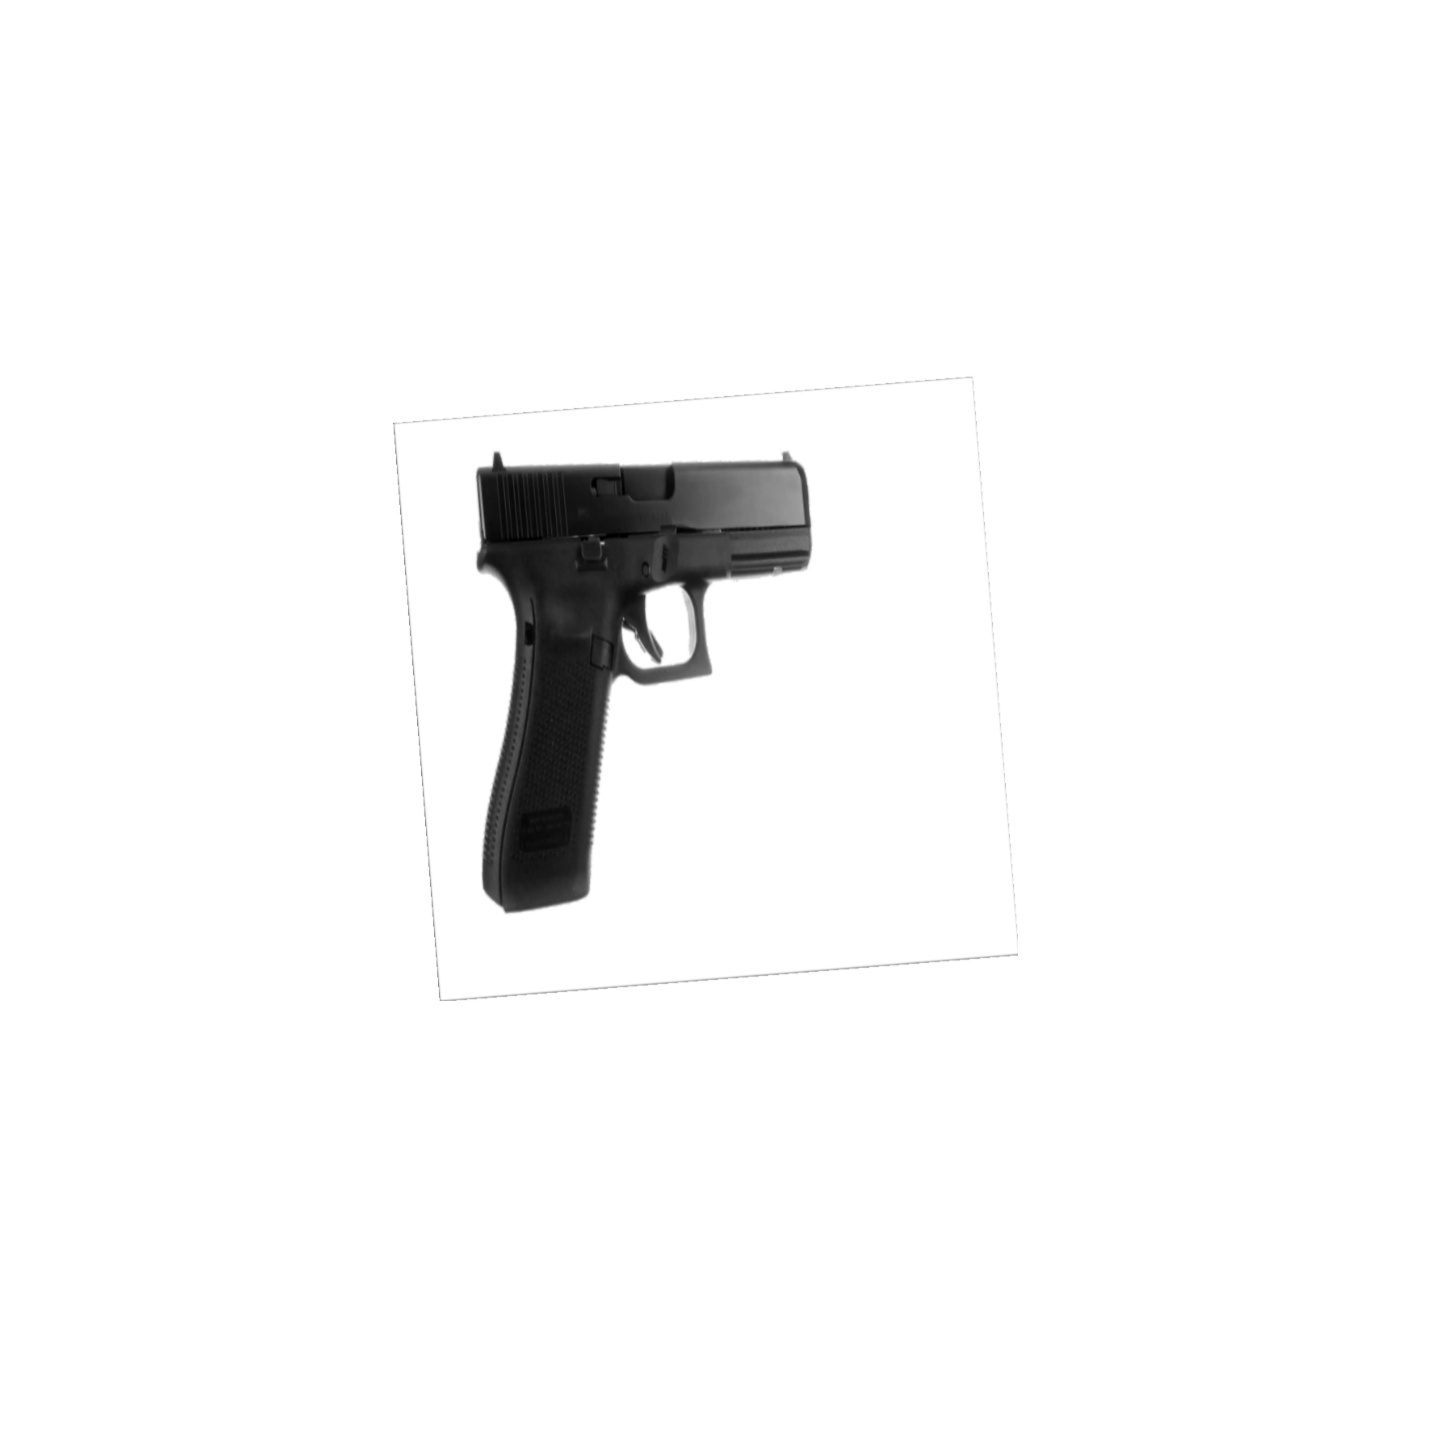gun: (466, 440, 823, 914)
